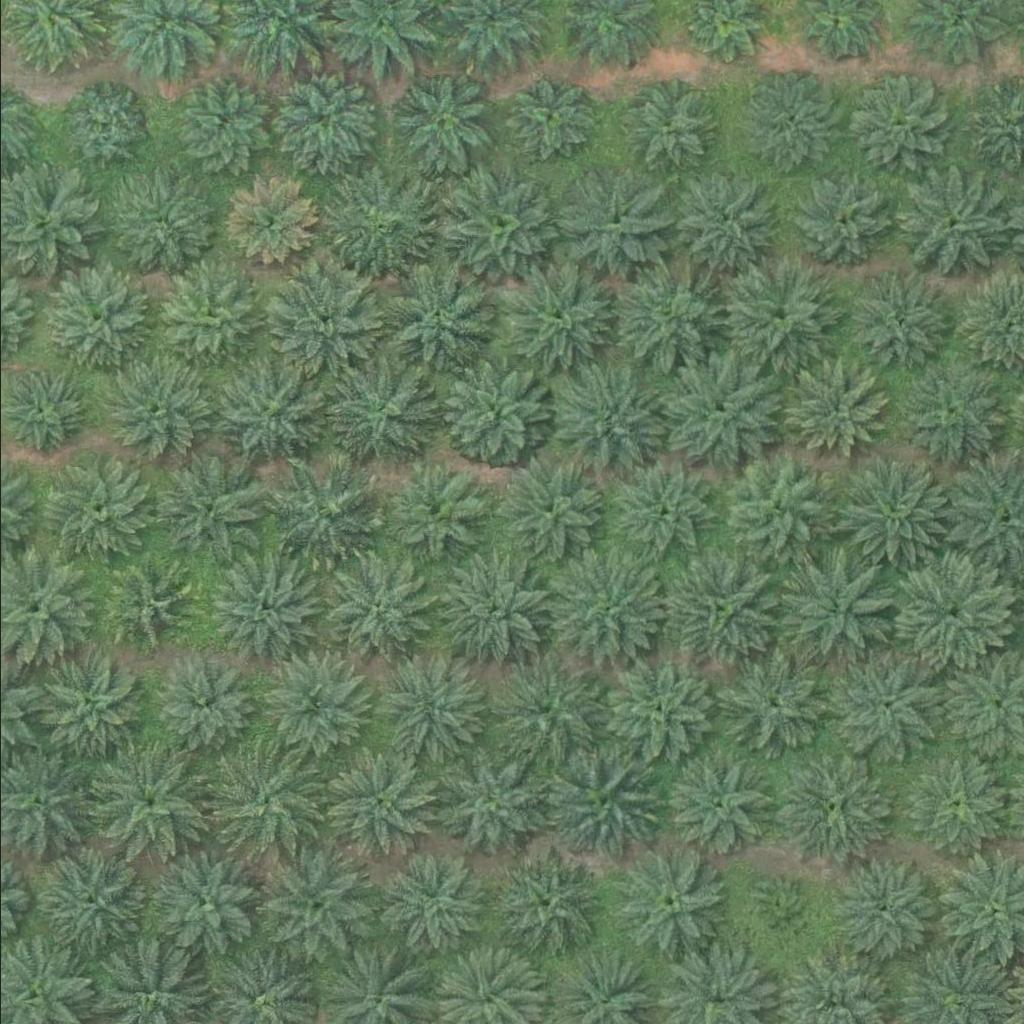Kelapa_Sawit: (721, 450, 835, 563), (663, 555, 777, 668), (545, 555, 659, 668), (489, 654, 603, 767), (374, 655, 488, 768), (895, 557, 1008, 670), (783, 554, 896, 667), (834, 456, 947, 569), (894, 165, 1007, 278), (782, 163, 895, 276), (669, 164, 782, 277), (556, 170, 669, 283), (442, 170, 555, 283), (501, 260, 614, 373), (375, 262, 488, 375), (265, 265, 378, 378), (433, 551, 546, 664), (315, 558, 428, 671), (256, 651, 369, 764), (612, 847, 725, 960), (490, 844, 603, 957), (89, 746, 202, 859), (35, 648, 148, 761), (212, 357, 325, 470), (599, 656, 713, 768), (434, 748, 548, 860), (317, 747, 431, 859), (256, 850, 370, 962), (774, 753, 887, 865), (827, 656, 940, 768), (893, 359, 1006, 471), (320, 171, 433, 283), (723, 256, 836, 368), (607, 259, 720, 371), (663, 358, 776, 470), (551, 364, 664, 476), (439, 358, 552, 470), (326, 353, 439, 465), (496, 457, 609, 569), (266, 454, 379, 566), (718, 650, 831, 762), (542, 748, 655, 860), (209, 742, 322, 854), (30, 845, 143, 957), (40, 451, 153, 563), (145, 847, 258, 959), (212, 551, 325, 663), (153, 455, 266, 567), (786, 362, 887, 462), (848, 275, 949, 375), (612, 76, 713, 176), (389, 69, 490, 169), (385, 466, 486, 566), (665, 758, 766, 858), (110, 359, 211, 459), (159, 270, 260, 370), (173, 77, 274, 177), (113, 179, 214, 279), (834, 863, 934, 963), (903, 756, 1003, 856), (843, 73, 943, 173), (739, 73, 839, 173), (274, 69, 374, 169), (608, 461, 708, 561), (383, 853, 483, 953), (48, 269, 148, 369), (102, 562, 191, 650), (506, 73, 594, 161), (225, 177, 313, 265), (160, 663, 248, 750), (58, 85, 146, 172), (746, 884, 809, 946)
